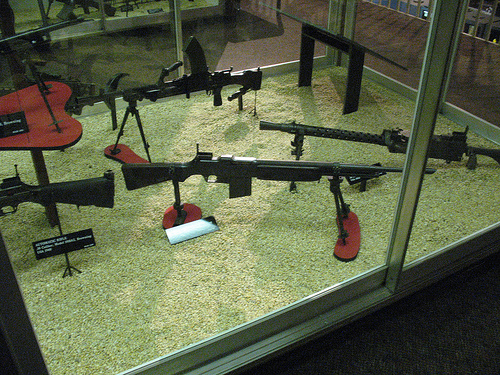rifle: (118, 153, 412, 198), (254, 114, 499, 151), (50, 68, 268, 108)
